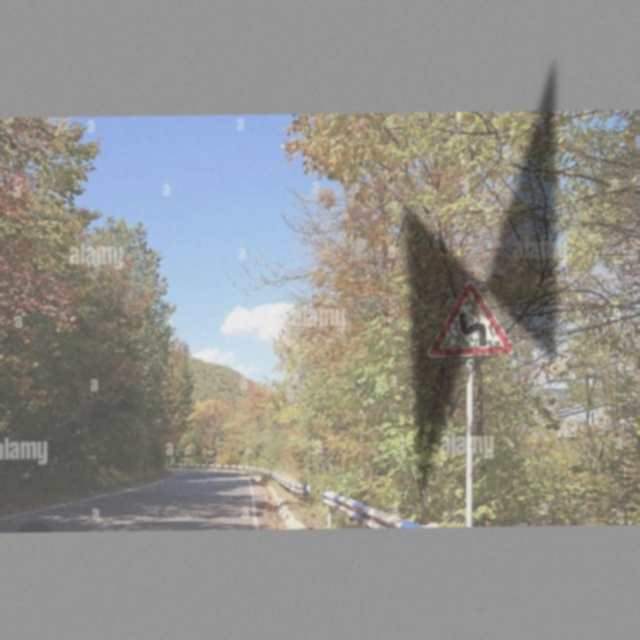Left_Reverse_Bend: (426, 277, 513, 363)
